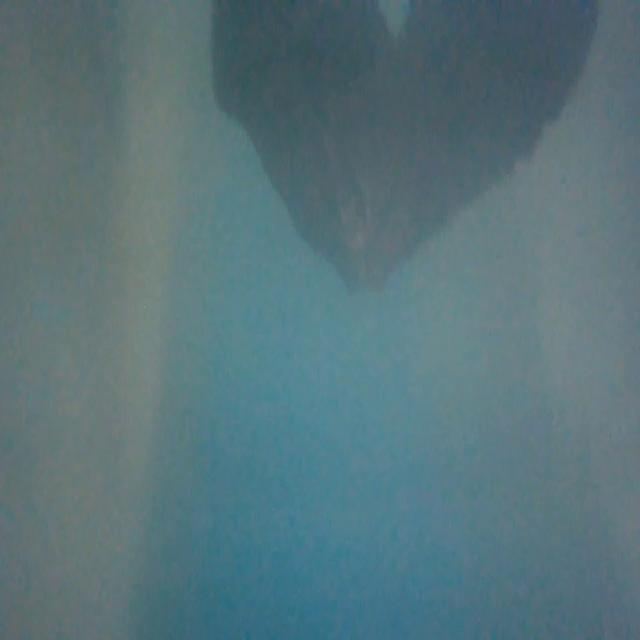plastic bags: (210, 0, 594, 291)
